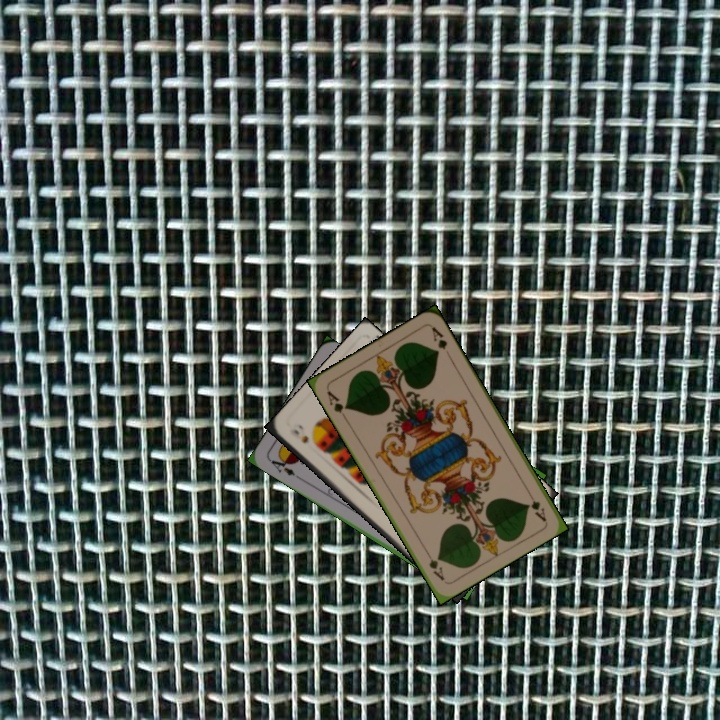EA: (265, 452, 302, 481)
GA: (523, 486, 549, 524), (323, 387, 351, 422)
S10: (285, 424, 312, 446)
